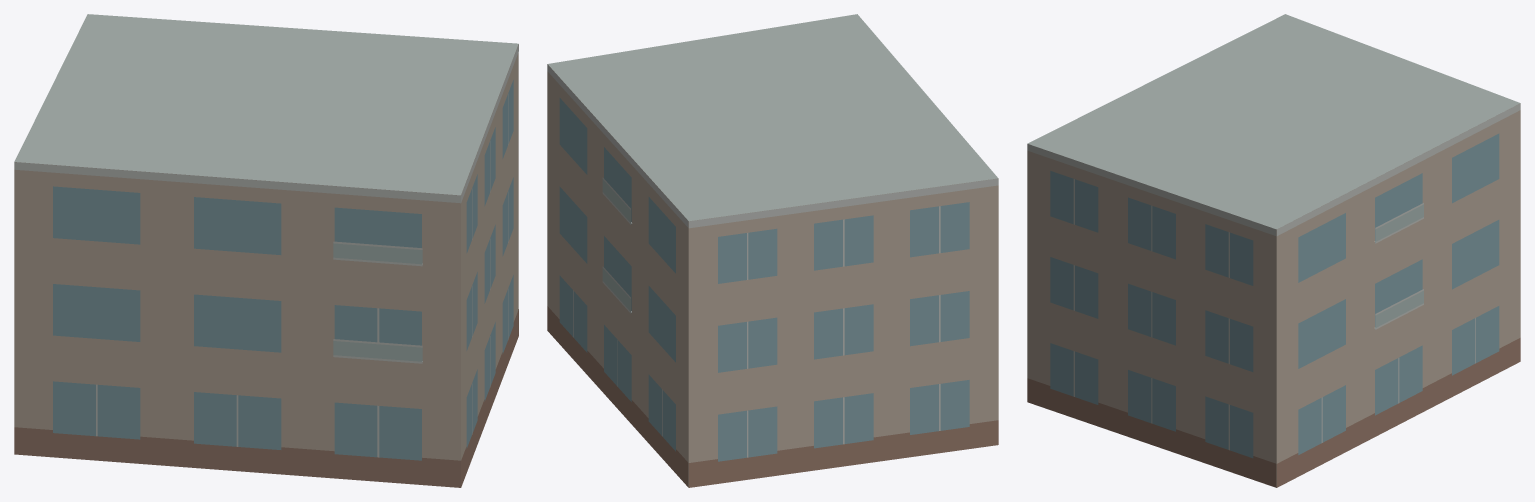
Rendered from survey-upis-32893245.glb.
3 renders of one model, left to right at view 1: azimuth 30°, elevation 25°; view 2: azimuth 150°, elevation 25°; view 3: azimuth 270°, elevation 25°, orthographic. The views are drawn at different scales.
Parts seen in each view (by area): view 1: survey-upis-32893245.tmp; view 2: survey-upis-32893245.tmp; view 3: survey-upis-32893245.tmp.
Part boxes in pixels (x1,y1,x2,y2): survey-upis-32893245.tmp: [14, 14, 518, 487]; survey-upis-32893245.tmp: [547, 14, 998, 487]; survey-upis-32893245.tmp: [1027, 14, 1520, 487].
Bounding box in the file's own units: 16.37 × 9.15 × 15.84.
